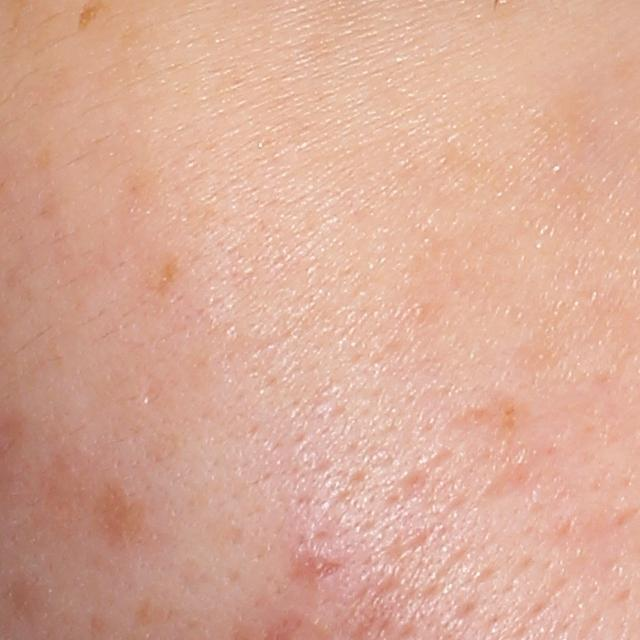atrophic_scar: (482, 462, 530, 501)
melasma: (152, 248, 185, 300)
